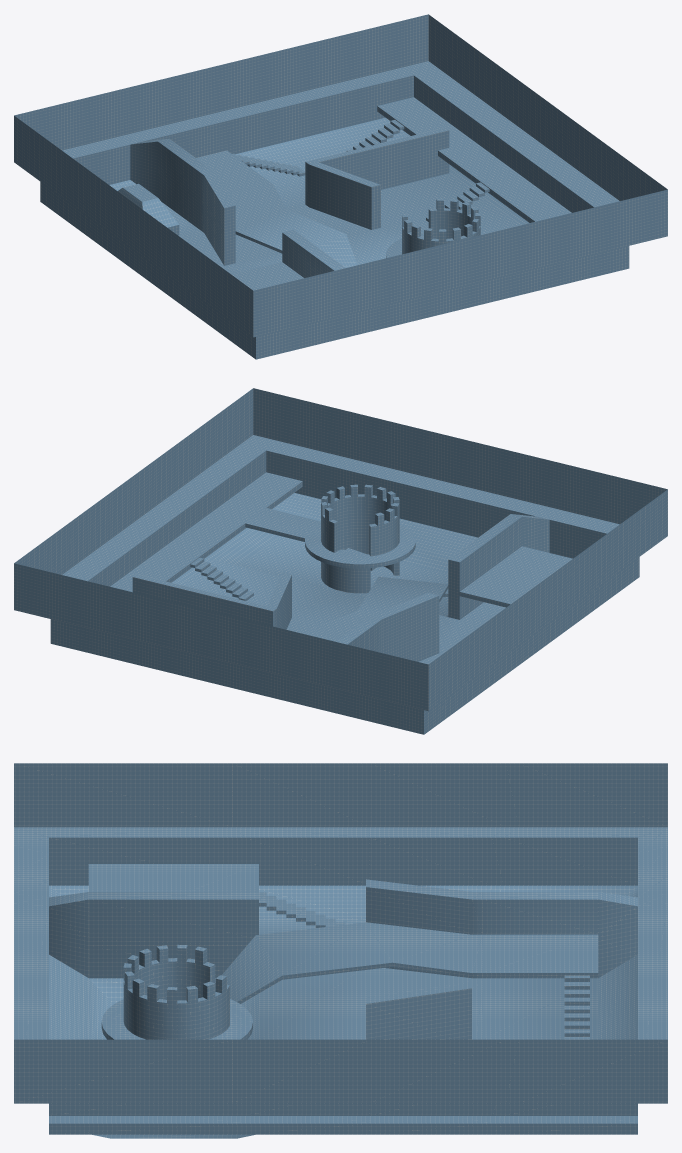
The model's file is game-collision-stage.glb.
3 renders of one model, top to bottom at view 1: azimuth 30°, elevation 25°; view 2: azimuth 150°, elevation 25°; view 3: azimuth 270°, elevation 25°, orthographic. The views are drawn at different scales.
Parts seen in each view (by area): view 1: Cube.004; view 2: Cube.004; view 3: Cube.004.
Boxes of the visible parts, x1,y1,x2,y2 form: Cube.004: (14,14,667,359); Cube.004: (14,388,667,734); Cube.004: (14,763,667,1138).
Size of the model in its own units: 34.36 by 8.6 by 34.36.
Materials: 1 (1 with a texture image).
